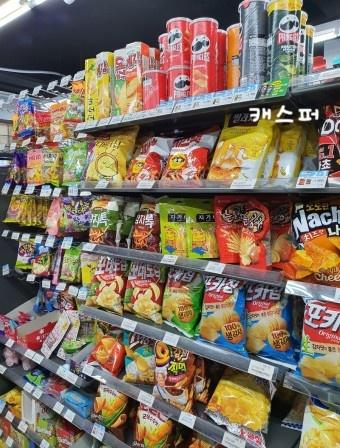snack: (285, 200, 340, 287), (293, 297, 340, 391), (199, 273, 248, 357), (122, 260, 166, 327)
